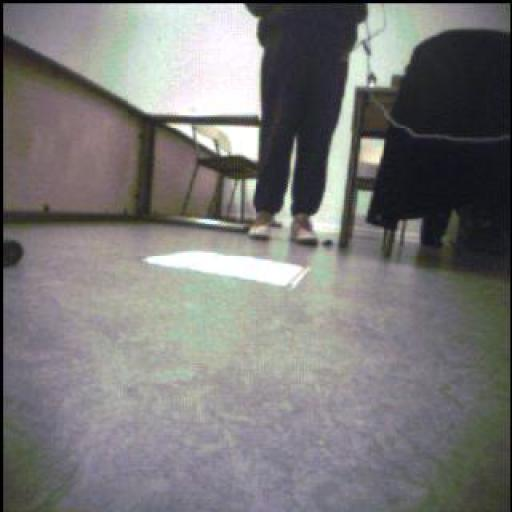Pad: (145, 252, 310, 289)
